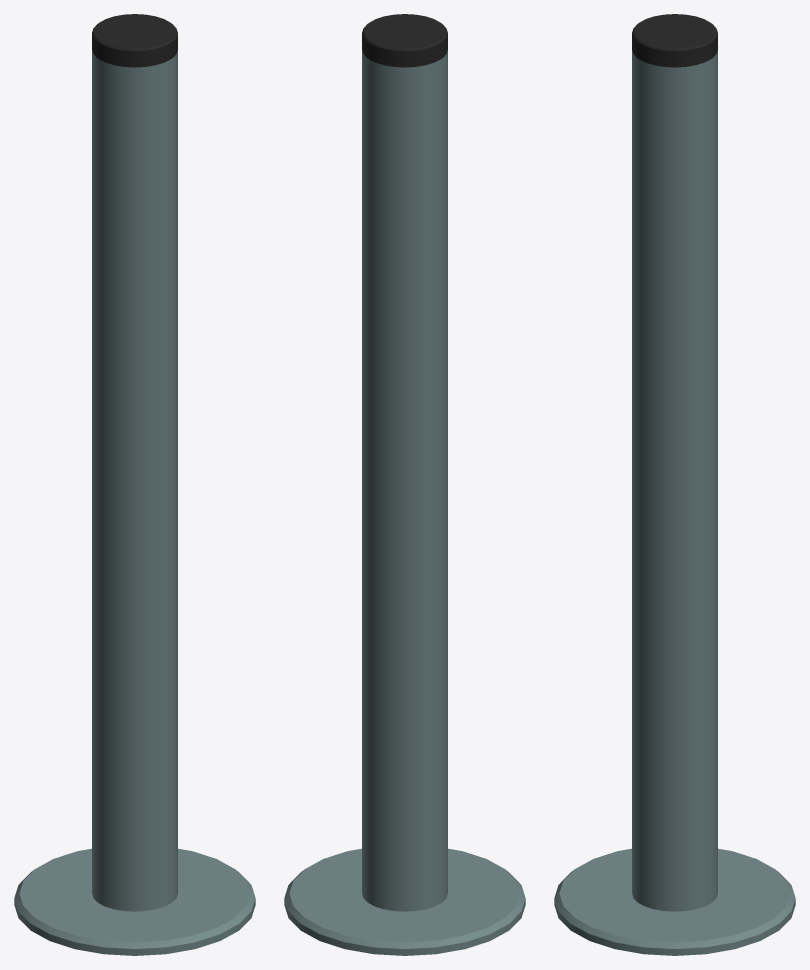
Rendered from airport-queue-post.glb.
The picture shows the model from 3 angles, left to right: view 1: azimuth 30°, elevation 25°; view 2: azimuth 150°, elevation 25°; view 3: azimuth 270°, elevation 25°; orthographic projection.
Visible parts, largest first — view 1: 17.9.2.Model_AIRPORT_0; view 2: 17.9.2.Model_AIRPORT_0; view 3: 17.9.2.Model_AIRPORT_0.
Part boxes in pixels (box(x1,y1,x2,y2)): 17.9.2.Model_AIRPORT_0: box(14, 14, 255, 955); 17.9.2.Model_AIRPORT_0: box(284, 14, 525, 955); 17.9.2.Model_AIRPORT_0: box(554, 14, 795, 955).
Size of the model in its own units: 0.2288 by 0.9139 by 0.2288.
1 material, 1 textured.
